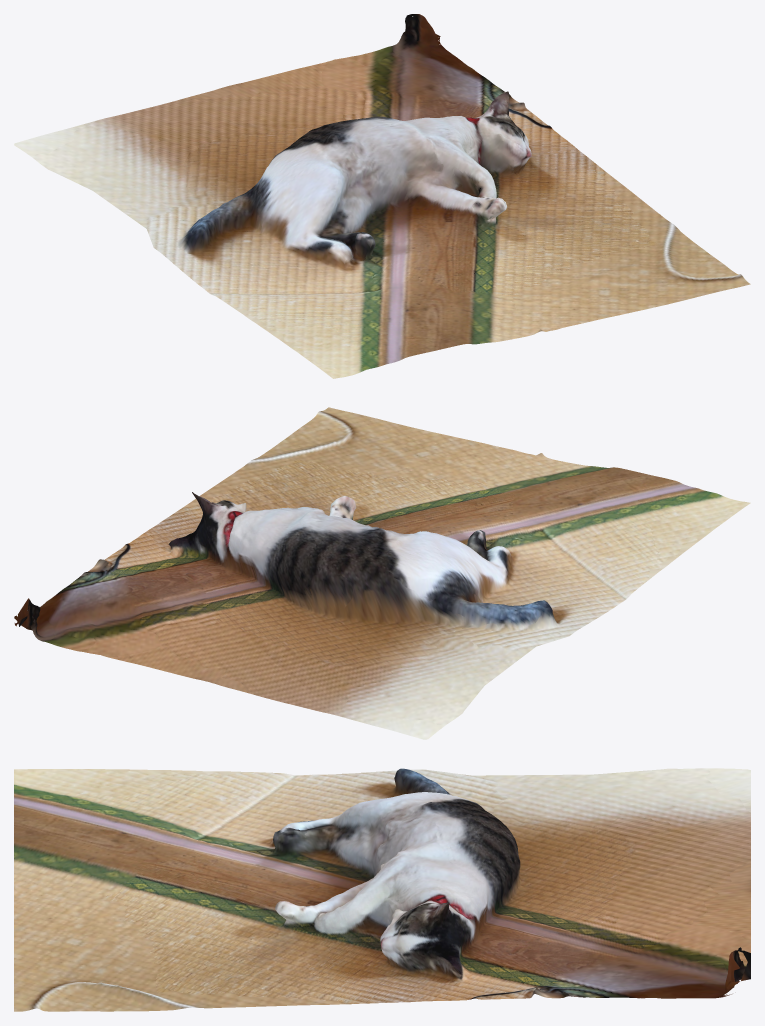
File: cat_2.glb
The picture shows the model from 3 angles, top to bottom: view 1: azimuth 30°, elevation 25°; view 2: azimuth 150°, elevation 25°; view 3: azimuth 270°, elevation 25°; orthographic projection. The views are drawn at different scales.
Visible parts, largest first — view 1: Object_2; view 2: Object_2; view 3: Object_2.
Boxes of the visible parts, x1,y1,x2,y2 form: Object_2: [14, 14, 750, 378]; Object_2: [14, 407, 750, 739]; Object_2: [14, 768, 750, 1011].
Bounding box in the file's own units: 0.741 × 0.1189 × 0.9865.
1 material, 1 textured.
